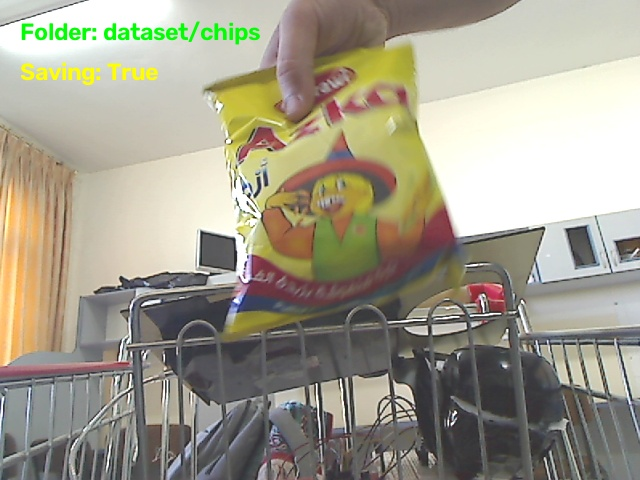chips: (205, 46, 462, 339)
